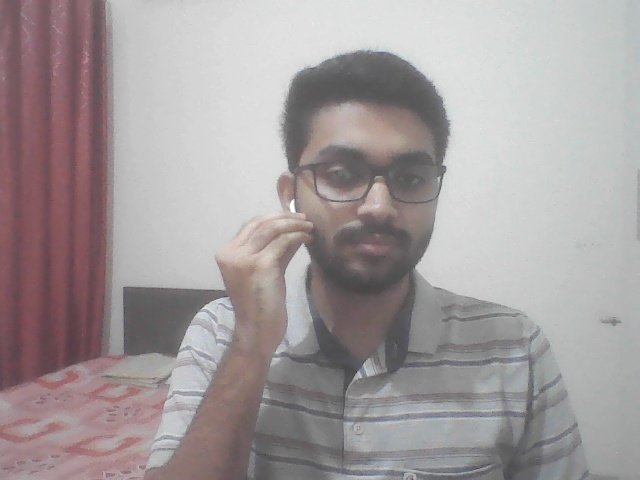home: (176, 209, 332, 376)
